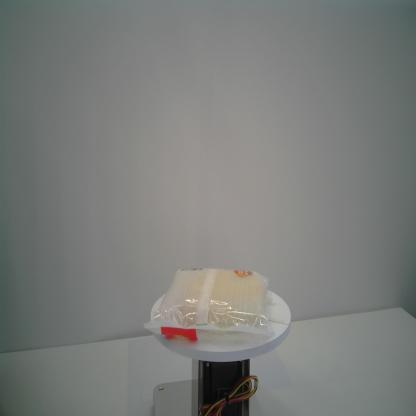Dessert: (142, 265, 276, 345)
